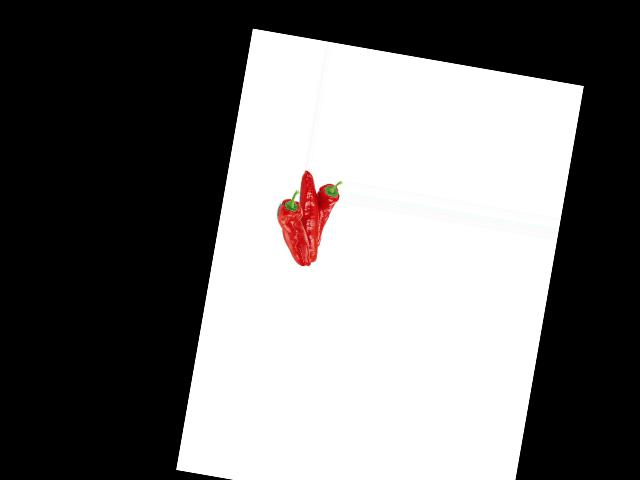bell_pepper: (267, 185, 314, 266)
